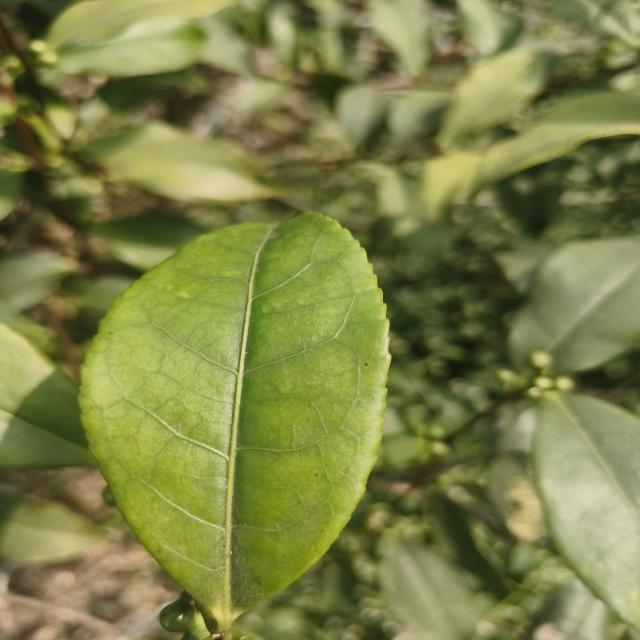Leaf: (80, 214, 389, 629), (532, 394, 640, 628), (509, 237, 640, 373), (85, 122, 282, 201), (0, 325, 95, 467), (437, 48, 551, 149), (380, 536, 490, 640), (47, 0, 234, 48), (56, 19, 205, 77), (0, 493, 106, 563), (93, 213, 204, 271), (369, 0, 429, 77), (0, 252, 78, 310), (458, 0, 522, 56), (336, 84, 388, 148)
